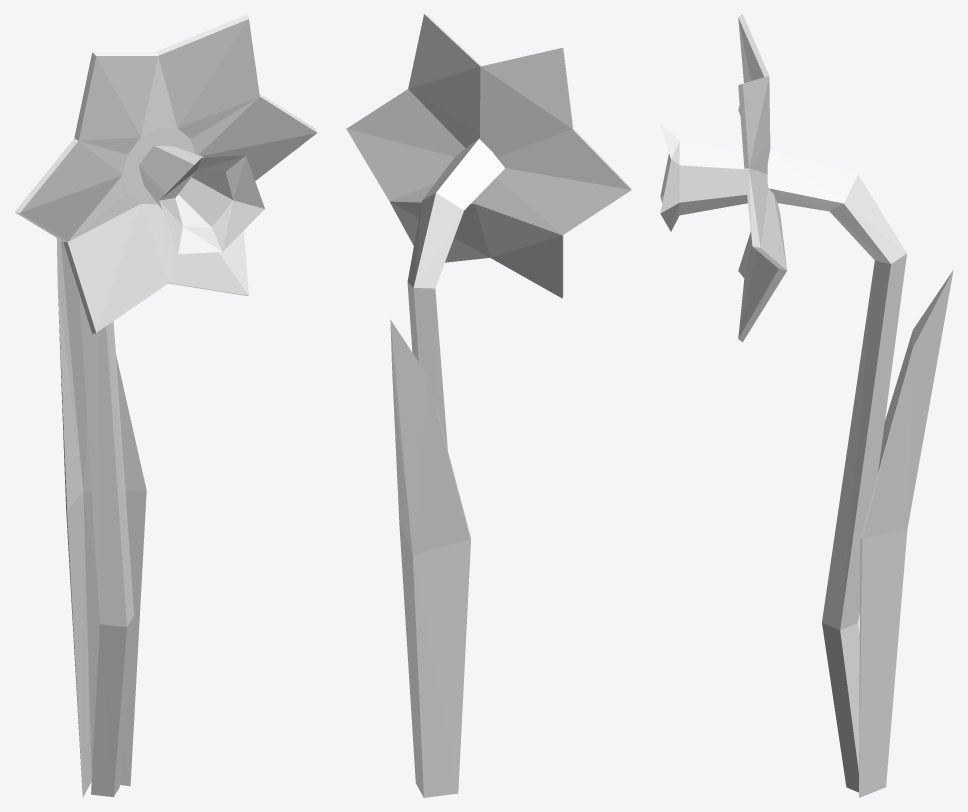
File: Env_Daffodil_Low_Detail_01.glb
3 renders of one model, left to right at view 1: azimuth 30°, elevation 25°; view 2: azimuth 150°, elevation 25°; view 3: azimuth 270°, elevation 25°, orthographic. The views are drawn at different scales.
Parts seen in each view (by area): view 1: Env_Daffodil_Low_Detail_01; view 2: Env_Daffodil_Low_Detail_01; view 3: Env_Daffodil_Low_Detail_01.
Part boxes in pixels (x1,y1,x2,y2): Env_Daffodil_Low_Detail_01: (15,14,317,797); Env_Daffodil_Low_Detail_01: (346,14,631,797); Env_Daffodil_Low_Detail_01: (660,14,953,797).
Bounding box in the file's own units: 0.1752 × 0.4332 × 0.1559.
1 material, 1 textured.
